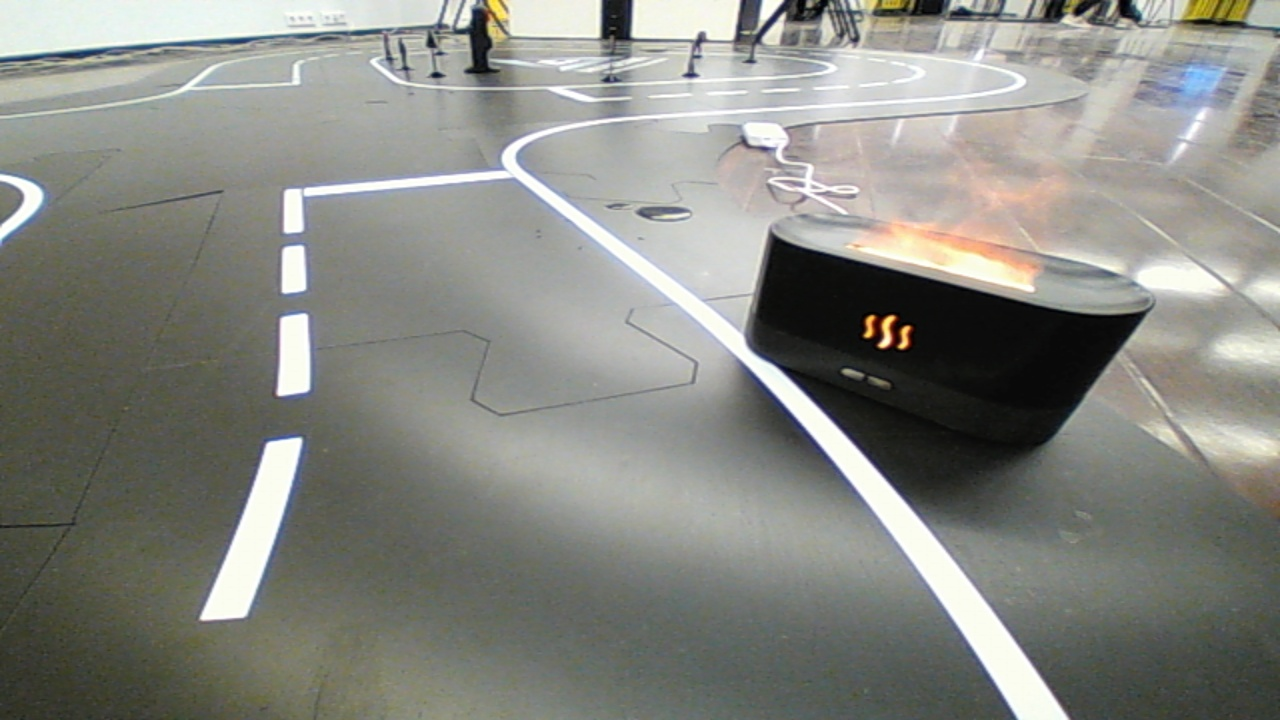Movement prohibition: (735, 203, 1165, 467)
